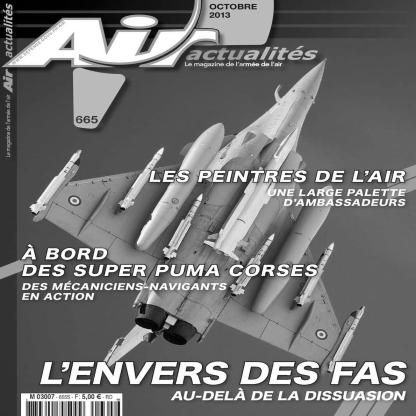Rafale: (29, 59, 366, 382)
